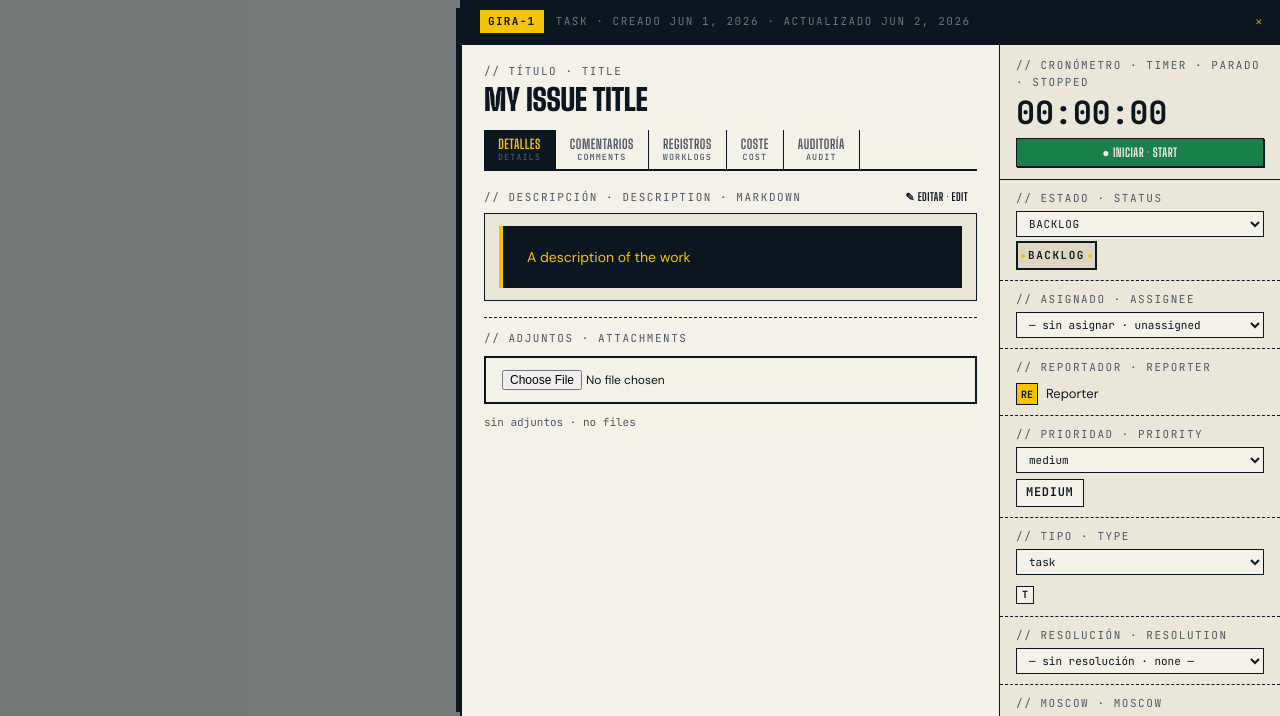
Test: IssueDrawer — coverage gaps › shows the "nobody to mention" empty state in the picker
Expected: the heading "My issue title" is shown, [484, 81, 648, 117]
Click the text "Comentarios".
click(602, 144)  # box [570, 138, 634, 151]
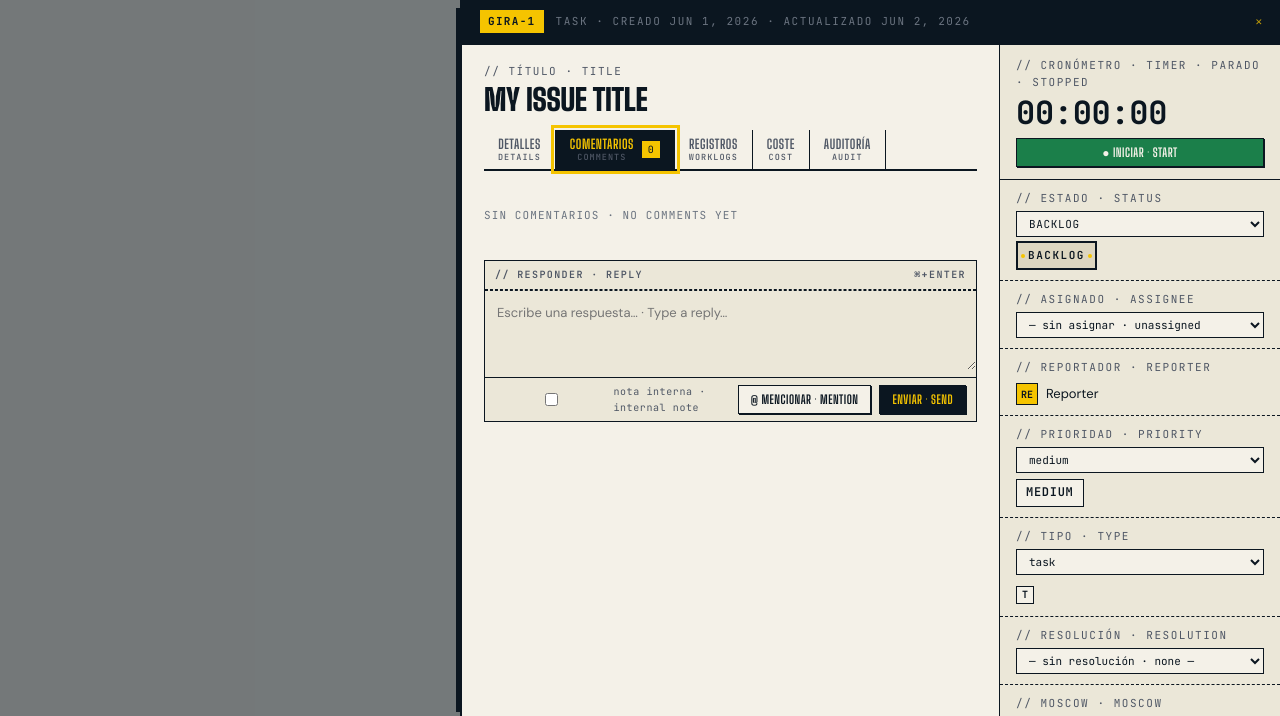
Click the button "@ mencionar · mention".
click(805, 400)  # box [738, 385, 871, 414]
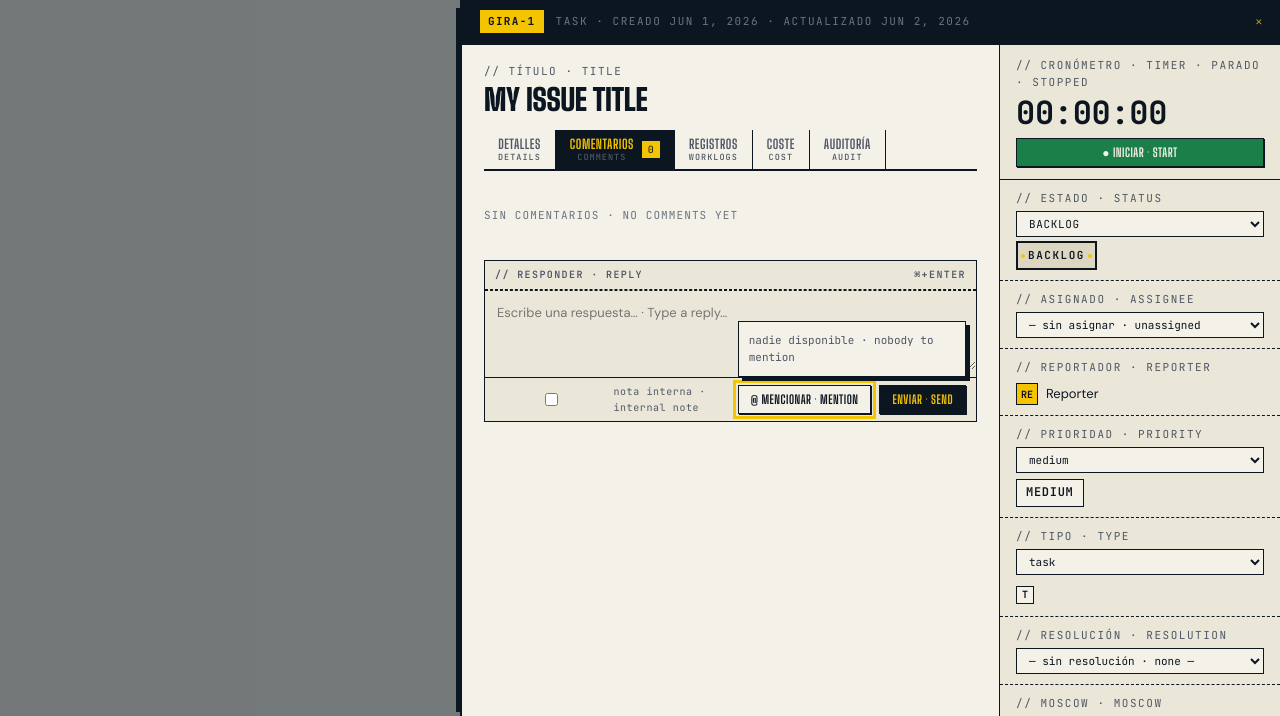
Now the text "nadie disponible · nobody to mention" is shown, box [749, 333, 934, 364]
